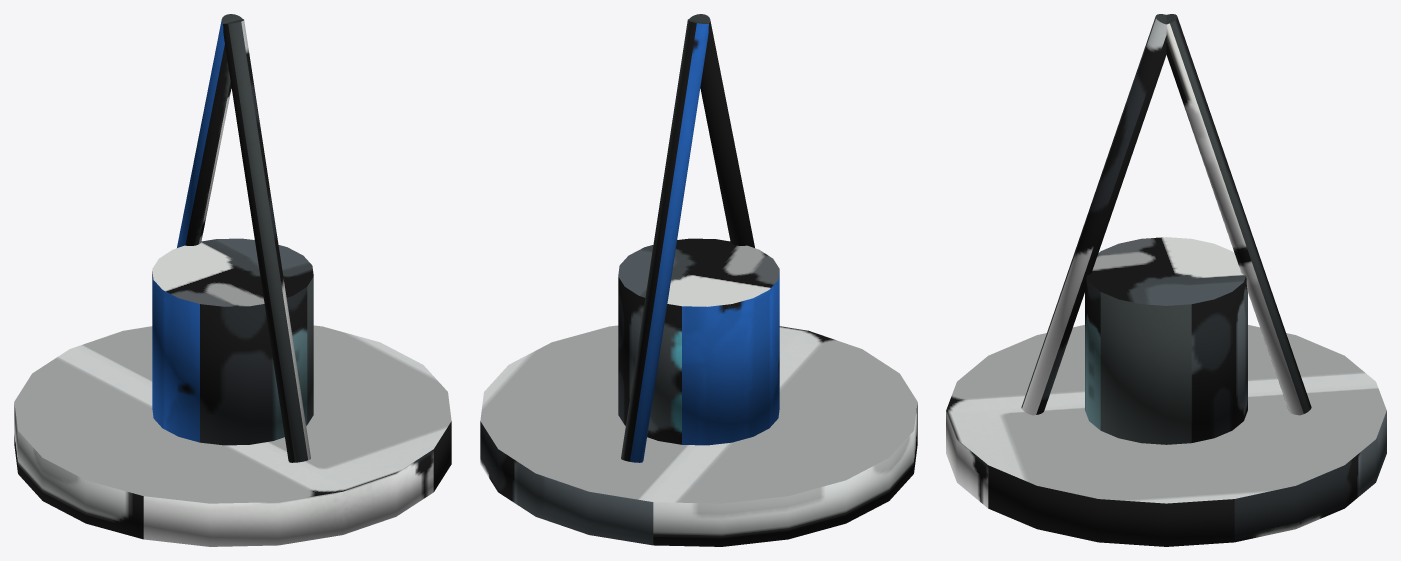
File: 1_right.obj
3 views of the same model, side by side, from view 1: azimuth 30°, elevation 25°; view 2: azimuth 150°, elevation 25°; view 3: azimuth 270°, elevation 25° (orthographic).
Size of the model in its own units: 0.46 by 0.5036 by 0.46.
1 material, 1 textured.
